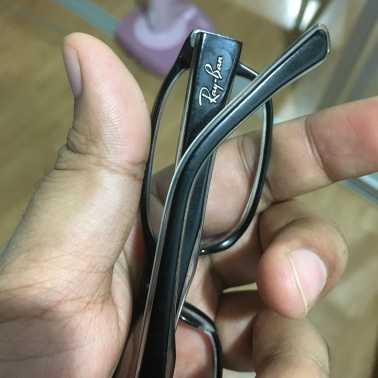glasses: (127, 41, 271, 378)
